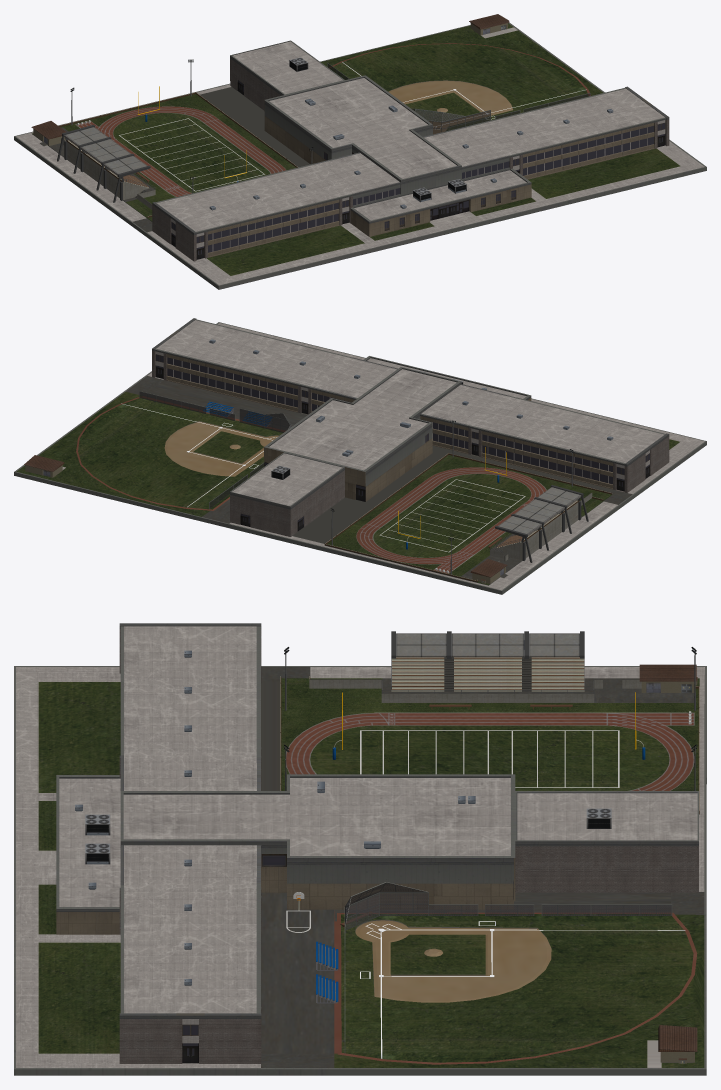
File: american_high_school.glb
3 renders of one model, top to bottom at view 1: azimuth 30°, elevation 25°; view 2: azimuth 150°, elevation 25°; view 3: azimuth 270°, elevation 25°, orthographic. The views are drawn at different scales.
Parts seen in each view (by area): view 1: Schoo_0, Track_1, Baseball_2; view 2: Schoo_0, Track_1, Baseball_2; view 3: Schoo_0, Baseball_2, Track_1.
Part boxes in pixels (x1,y1,x2,y2): Schoo_0: [14, 22, 706, 289]; Track_1: [31, 59, 313, 221]; Baseball_2: [327, 14, 590, 134]; Schoo_0: [14, 318, 706, 594]; Track_1: [324, 420, 612, 585]; Baseball_2: [24, 391, 292, 510]; Schoo_0: [14, 623, 706, 1075]; Baseball_2: [316, 882, 697, 1064]; Track_1: [280, 631, 699, 814].
Size of the model in its own units: 156 by 12.46 by 113.
Materials: 1 (1 with a texture image).
